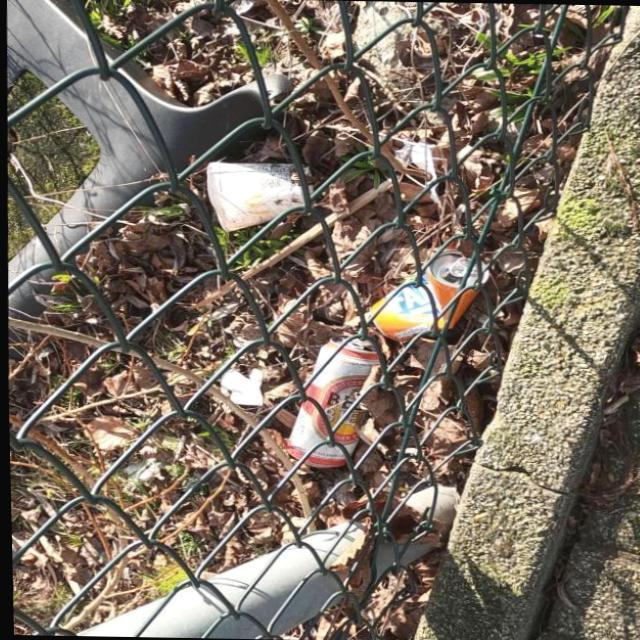Can-Metal: (277, 334, 392, 470), (362, 246, 488, 344)
Cup: (200, 160, 315, 236)
